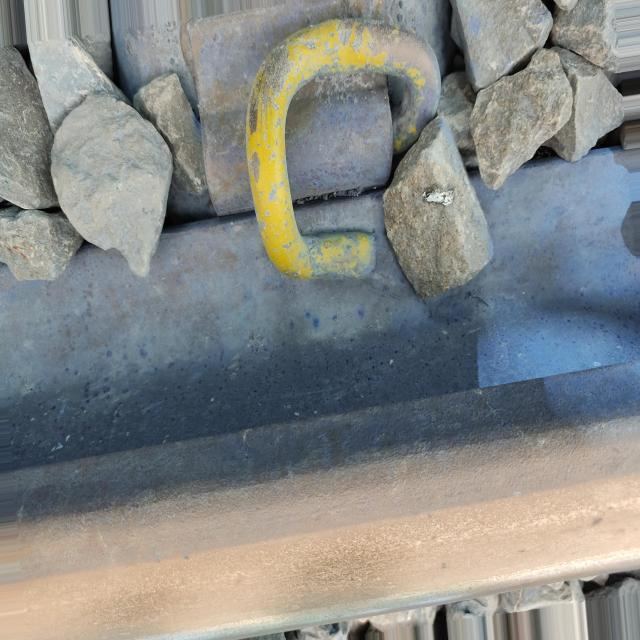Good Fasteners: (164, 4, 459, 334)
